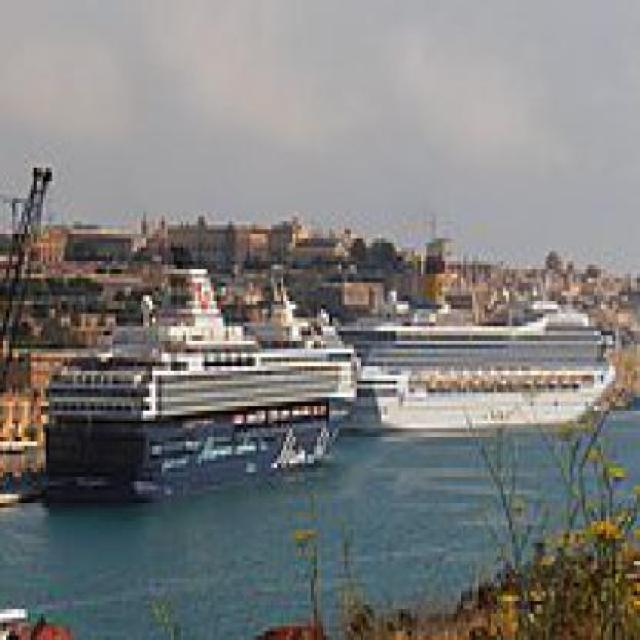cruise: (17, 256, 371, 509), (330, 284, 629, 447)
